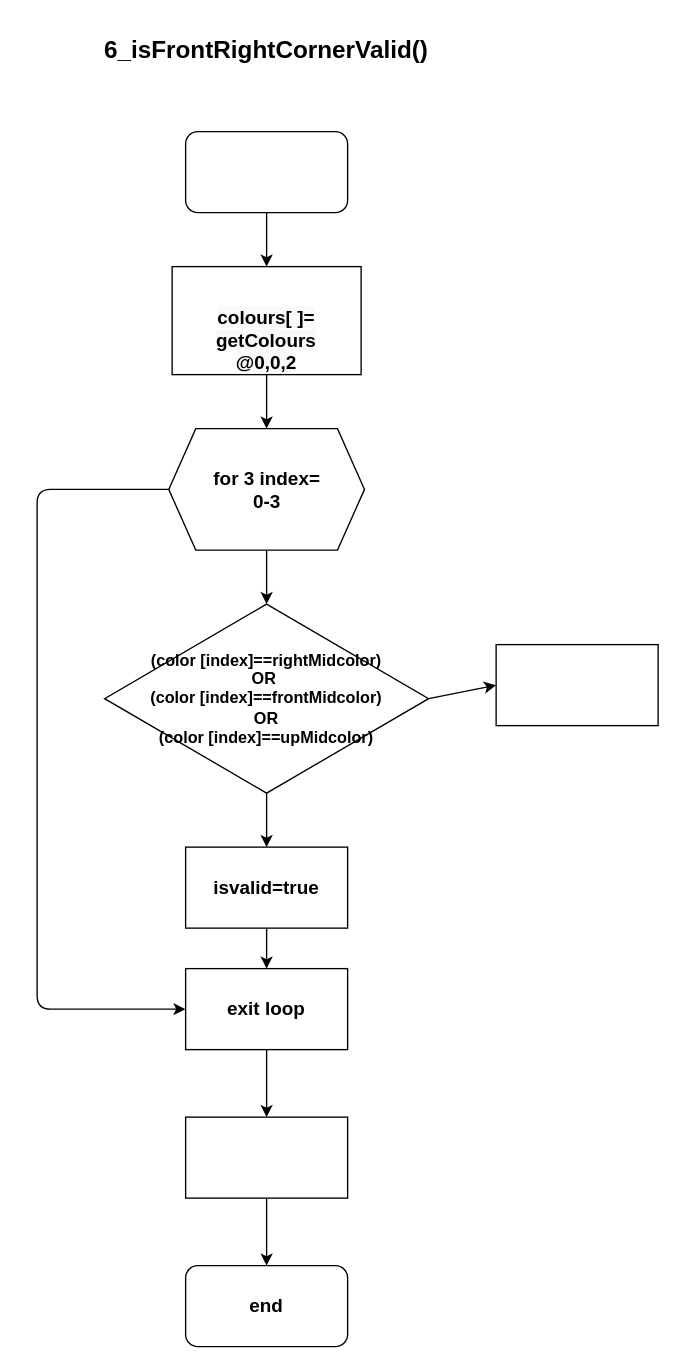
This 682x1370 diagram has some shape labels left out. Each missing label, with the box of its shape:
isvalid=false: (495, 643, 658, 726)
return isvalid: (184, 1116, 348, 1198)
Start: (184, 130, 348, 213)
